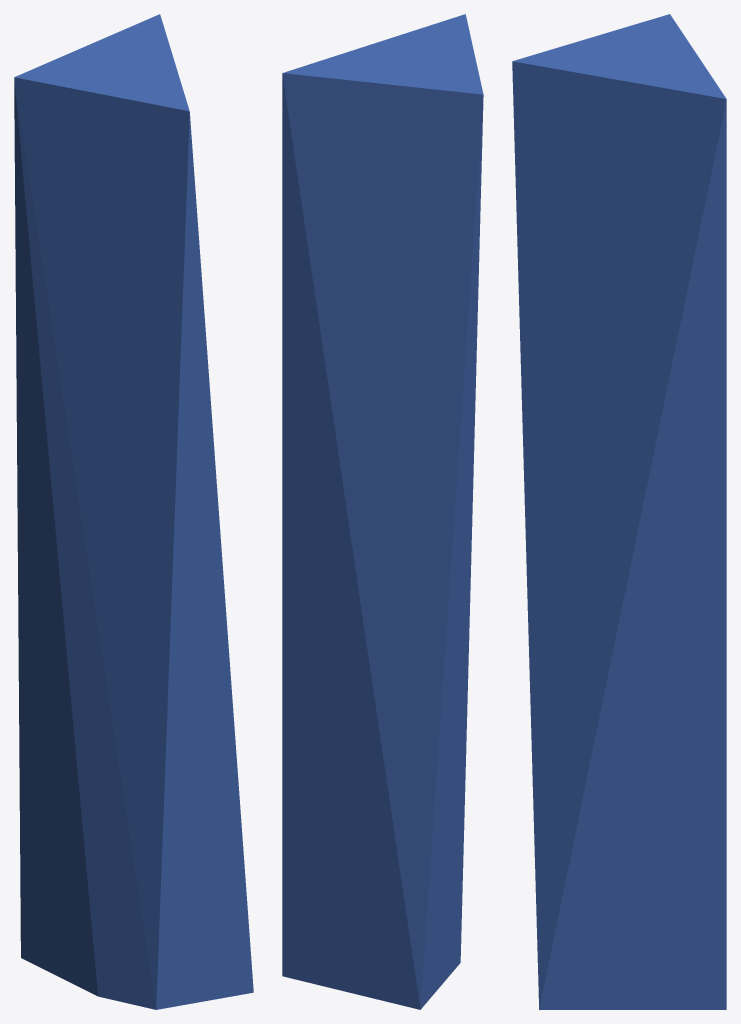
Rendered from simple_example_hole_part_28.obj.
3 renders of one model, left to right at view 1: azimuth 30°, elevation 25°; view 2: azimuth 150°, elevation 25°; view 3: azimuth 270°, elevation 25°, orthographic.
Size of the model in its own units: 8.67 by 43.27 by 9.24.
